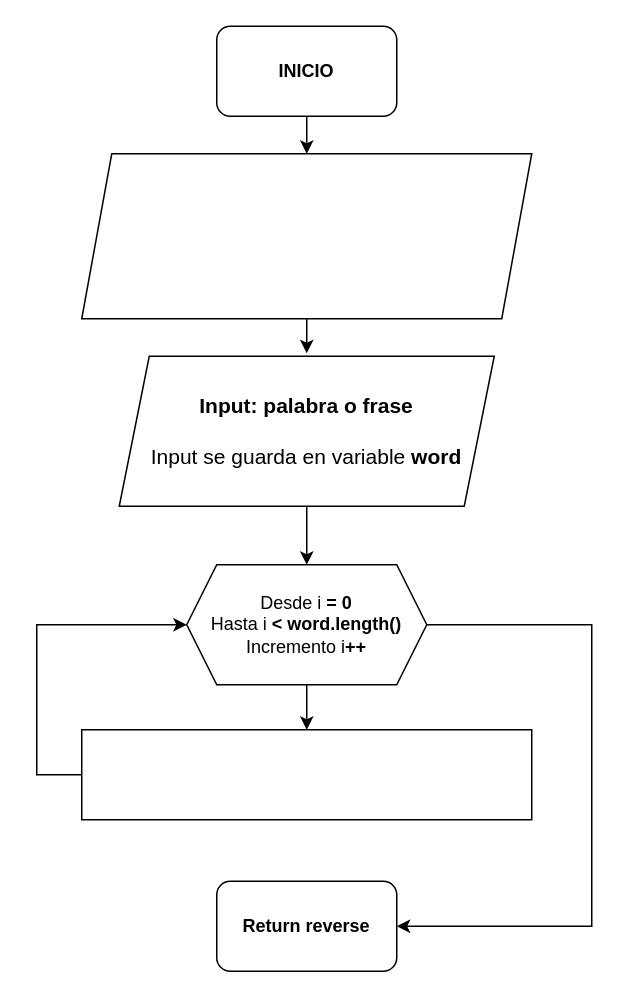
The diagram is 630 pixels wide and 998 high, and some of its shapes have lost their labels. The box of each missing label's shape, as (x1, y1, x2, y2) in pixels:
Consola: "Ingresa la palabra a revertir": (80, 152, 532, 319)
Se agrega word.charAt(word.length()-i-1) a la variable reverse: (80, 728, 532, 820)
